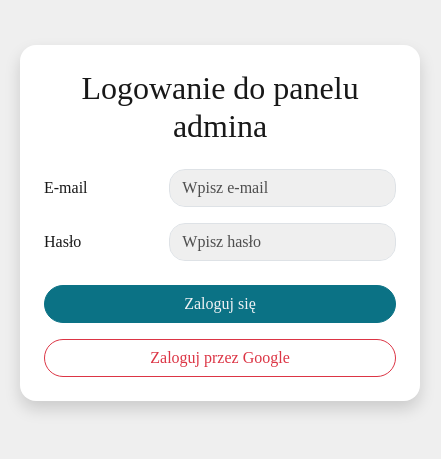
Test: AdminLogin Page › shows error message on Google login failure
This screenshot has width=441, height=459.
Click the button "Zaloguj przez Google" at (220,358), box [44,339,396,377]
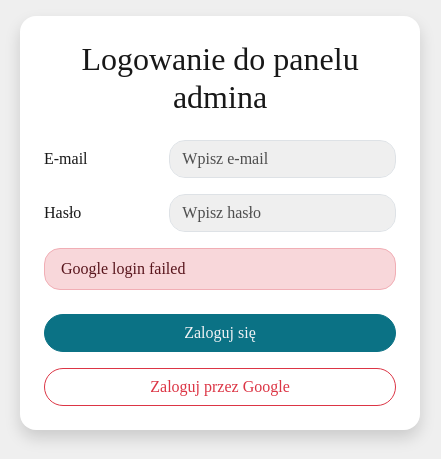
Result: the text "Google login failed" is shown at [44,248,396,290]
